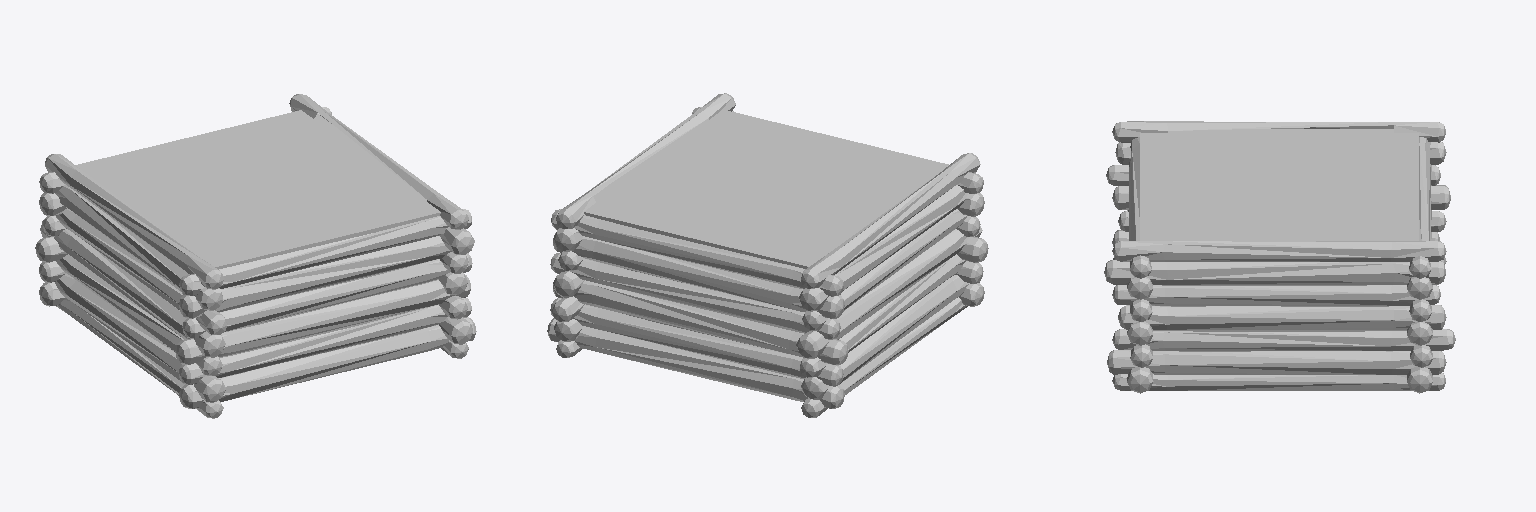
File: SM_Bld_Base_01.obj
3 views of the same model, side by side, from view 1: azimuth 30°, elevation 25°; view 2: azimuth 150°, elevation 25°; view 3: azimuth 270°, elevation 25° (orthographic).
Visible parts, largest first — view 1: SM_Bld_Base_01; view 2: SM_Bld_Base_01; view 3: SM_Bld_Base_01.
Boxes of the visible parts, x1=… form: SM_Bld_Base_01: x1=35, y1=94, x2=476, y2=418; SM_Bld_Base_01: x1=547, y1=93, x2=988, y2=417; SM_Bld_Base_01: x1=1104, y1=121, x2=1455, y2=393.
Size of the model in its own units: 247 by 119 by 255.